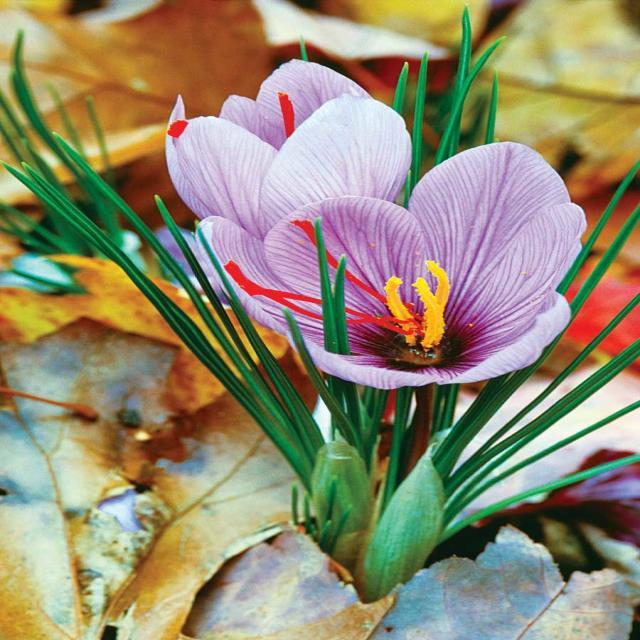Flower: (245, 178, 604, 396), (147, 53, 415, 214)
stigma: (288, 205, 386, 304), (234, 249, 339, 339), (266, 84, 302, 140)
